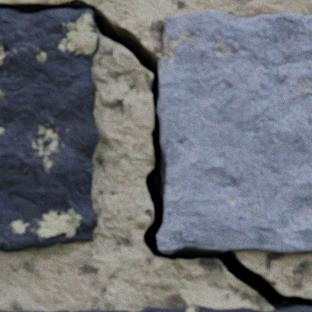brick: (157, 12, 311, 253), (0, 10, 100, 252), (138, 305, 311, 311), (52, 309, 131, 311), (17, 310, 47, 311)
crack: (0, 0, 311, 309)
